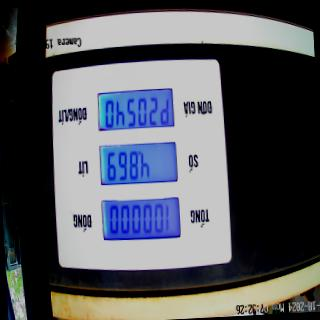screen: (94, 86, 183, 245)
